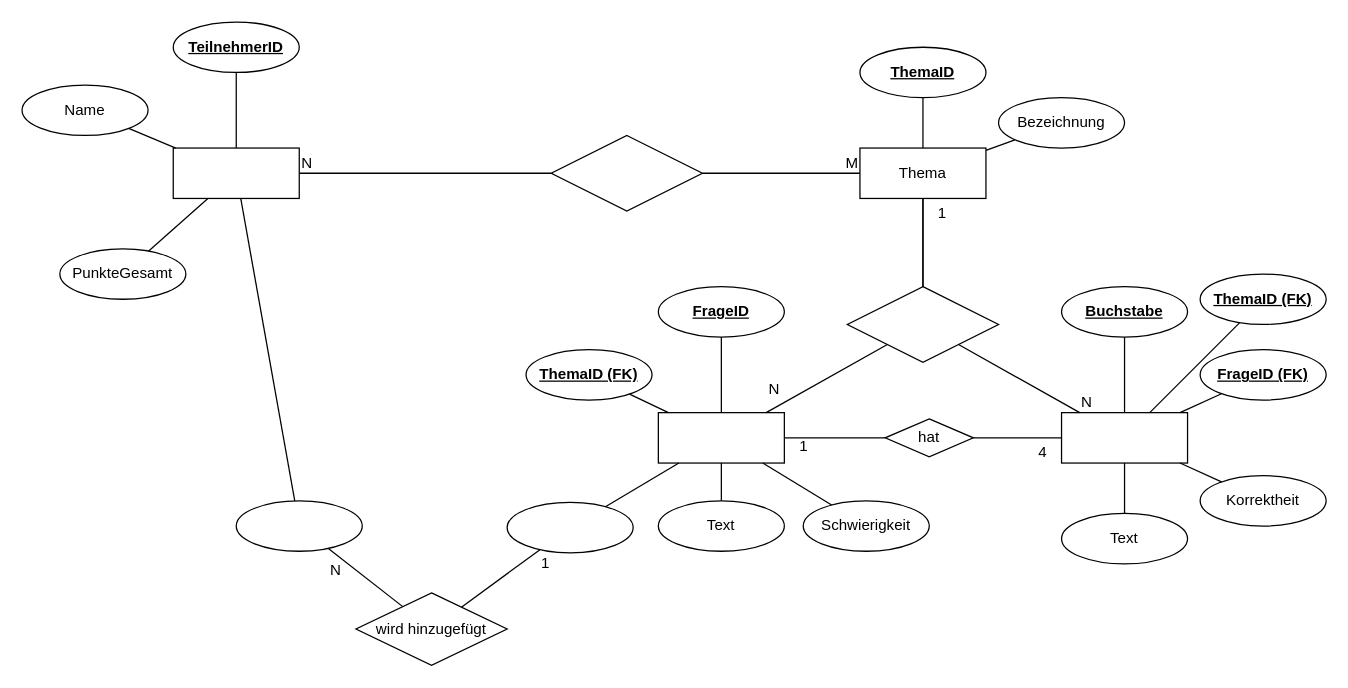
Some shapes in this 1348 by 688 pixel diagram are drawn without their labels. The centre of each missing label's shape, as x and y in pixels:
"angeben" goes at point (626, 172).
"Antwort" goes at point (1124, 437).
"Frage" goes at point (720, 437).
"generiert" goes at point (922, 323).
"PunkteRunde" goes at point (298, 525).
"Punktewert" goes at point (569, 527).
"Teilnehmer" goes at point (235, 172).
